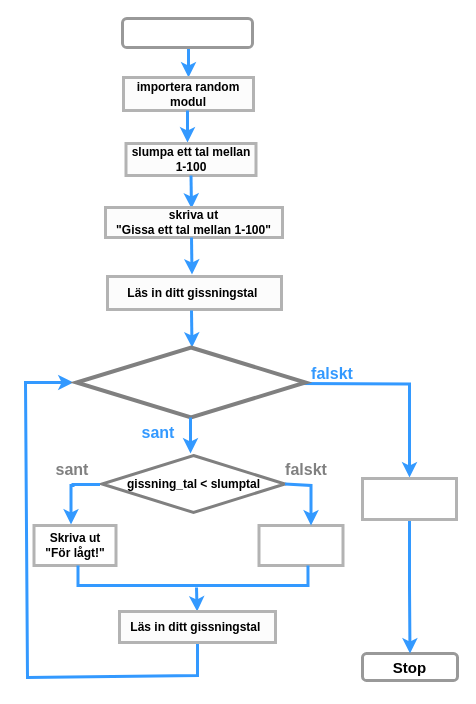
Some shapes in this 476 by 704 pixel diagram are drawn without their labels. Here are the shapes that lost their labels. From the top down, the centre of each, then its label:
point 187,32: Start
point 190,382: gissningstal != slumptal
point 409,498: Skriva ut "Rätt Gissat"
point 300,545: Skriva ut "För högt"
